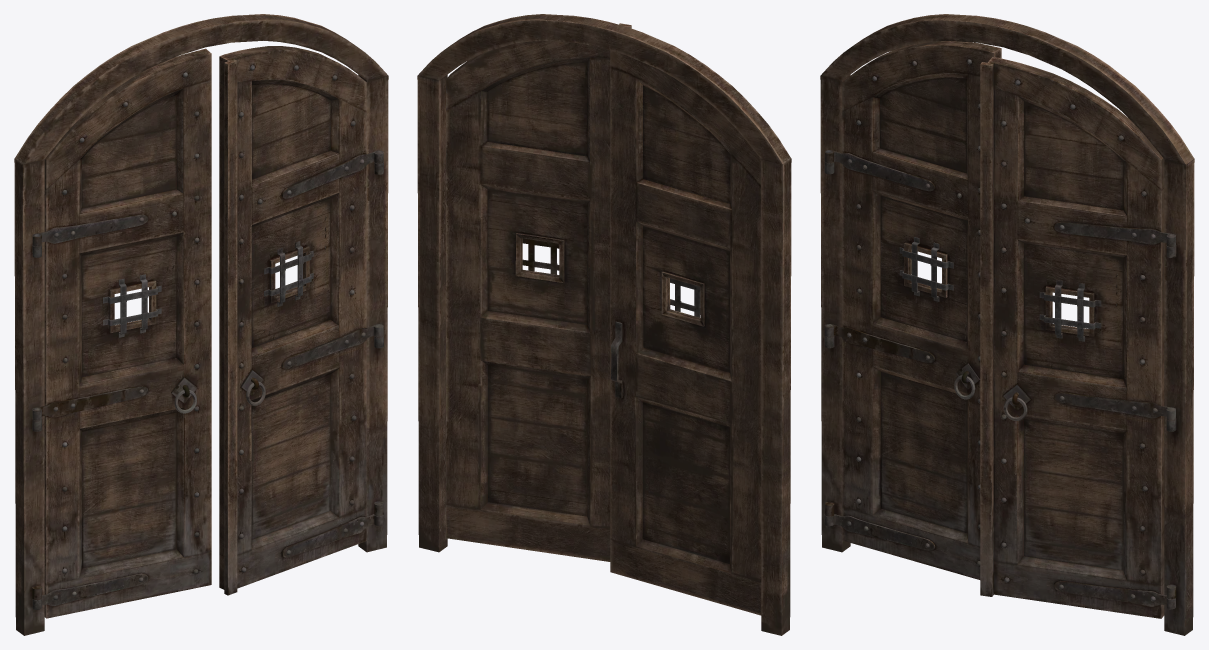
Rendered from large_castle_door.glb.
The picture shows the model from 3 angles, left to right: view 1: azimuth 30°, elevation 25°; view 2: azimuth 150°, elevation 25°; view 3: azimuth 330°, elevation 25°; orthographic projection.
Parts seen in each view (by area): view 1: large_castle_door_left, large_castle_door_right, large_castle_door_frame; view 2: large_castle_door_right, large_castle_door_left, large_castle_door_frame; view 3: large_castle_door_right, large_castle_door_left, large_castle_door_frame.
Part boxes in pixels (x1,y1,x2,y2): large_castle_door_left: [32, 48, 211, 618]; large_castle_door_right: [219, 46, 383, 595]; large_castle_door_frame: [14, 14, 388, 635]; large_castle_door_right: [446, 23, 631, 561]; large_castle_door_left: [610, 50, 761, 615]; large_castle_door_frame: [417, 14, 791, 635]; large_castle_door_right: [980, 57, 1175, 618]; large_castle_door_left: [824, 41, 1001, 579]; large_castle_door_frame: [820, 14, 1194, 635].
Bounding box in the file's own units: 2.01 × 2.96 × 0.2963.
Materials: 1 (1 with a texture image).
